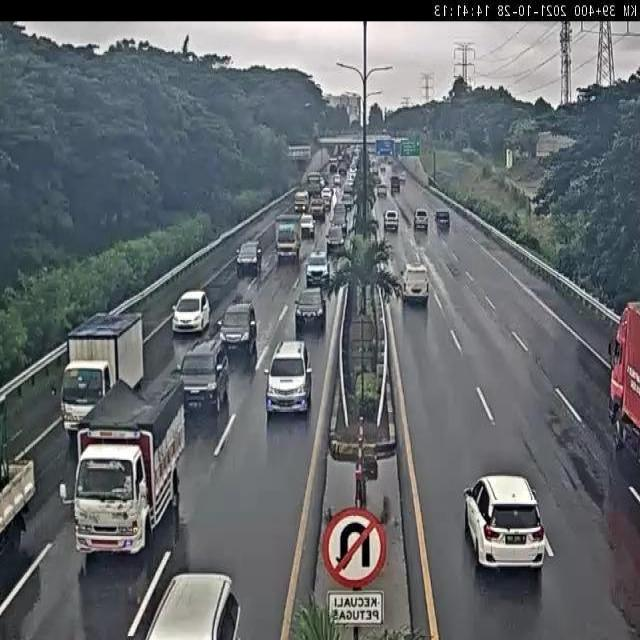Car: (461, 472, 550, 570), (266, 332, 314, 420), (180, 337, 228, 409), (217, 302, 256, 351), (171, 290, 208, 332), (293, 288, 326, 332), (402, 262, 431, 300), (304, 249, 330, 287), (235, 238, 262, 274)
Truck: (71, 376, 189, 551), (62, 300, 150, 426), (273, 213, 303, 262)
